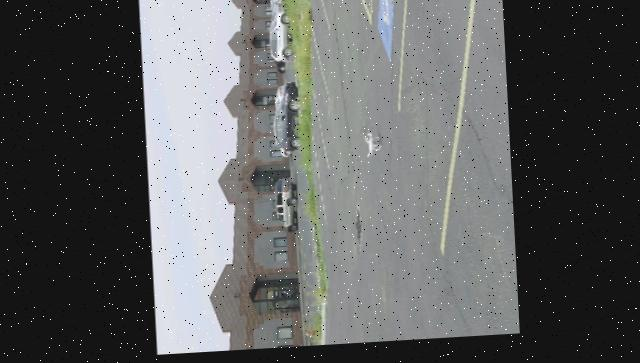drone: (361, 134, 381, 163)
